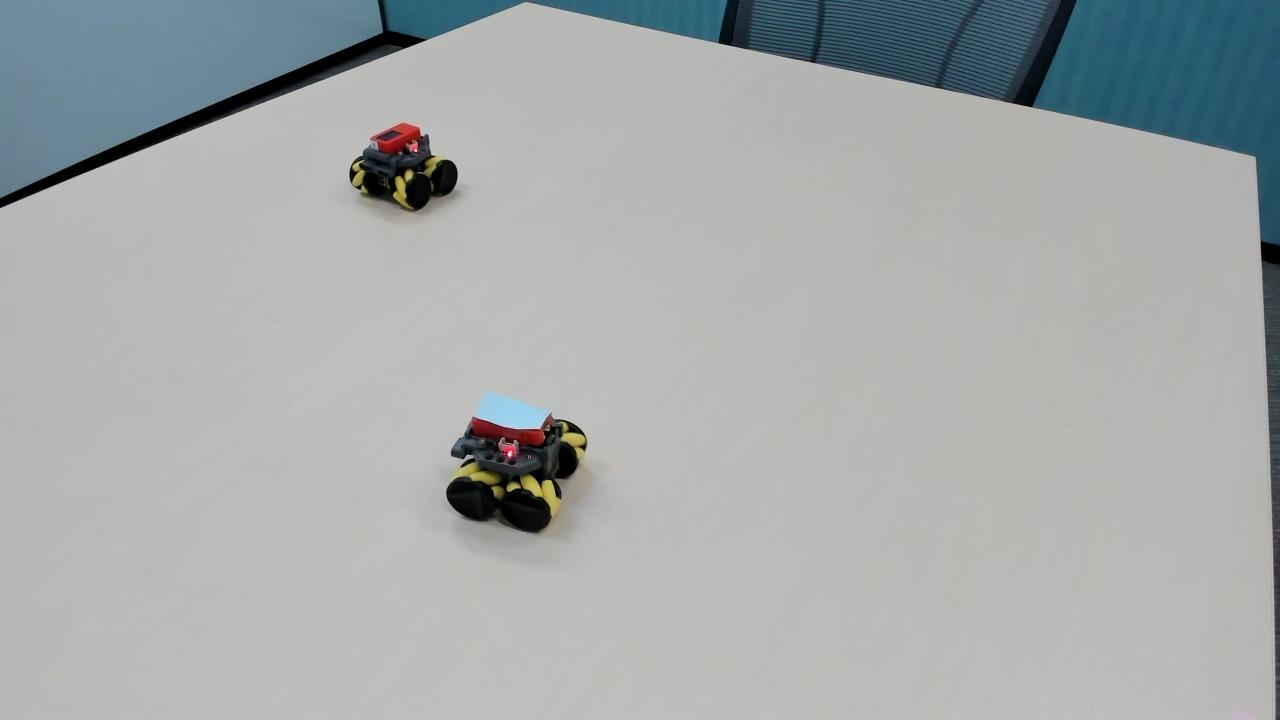B-Robot: (433, 374, 606, 548)
R-Robot: (336, 111, 470, 224)
